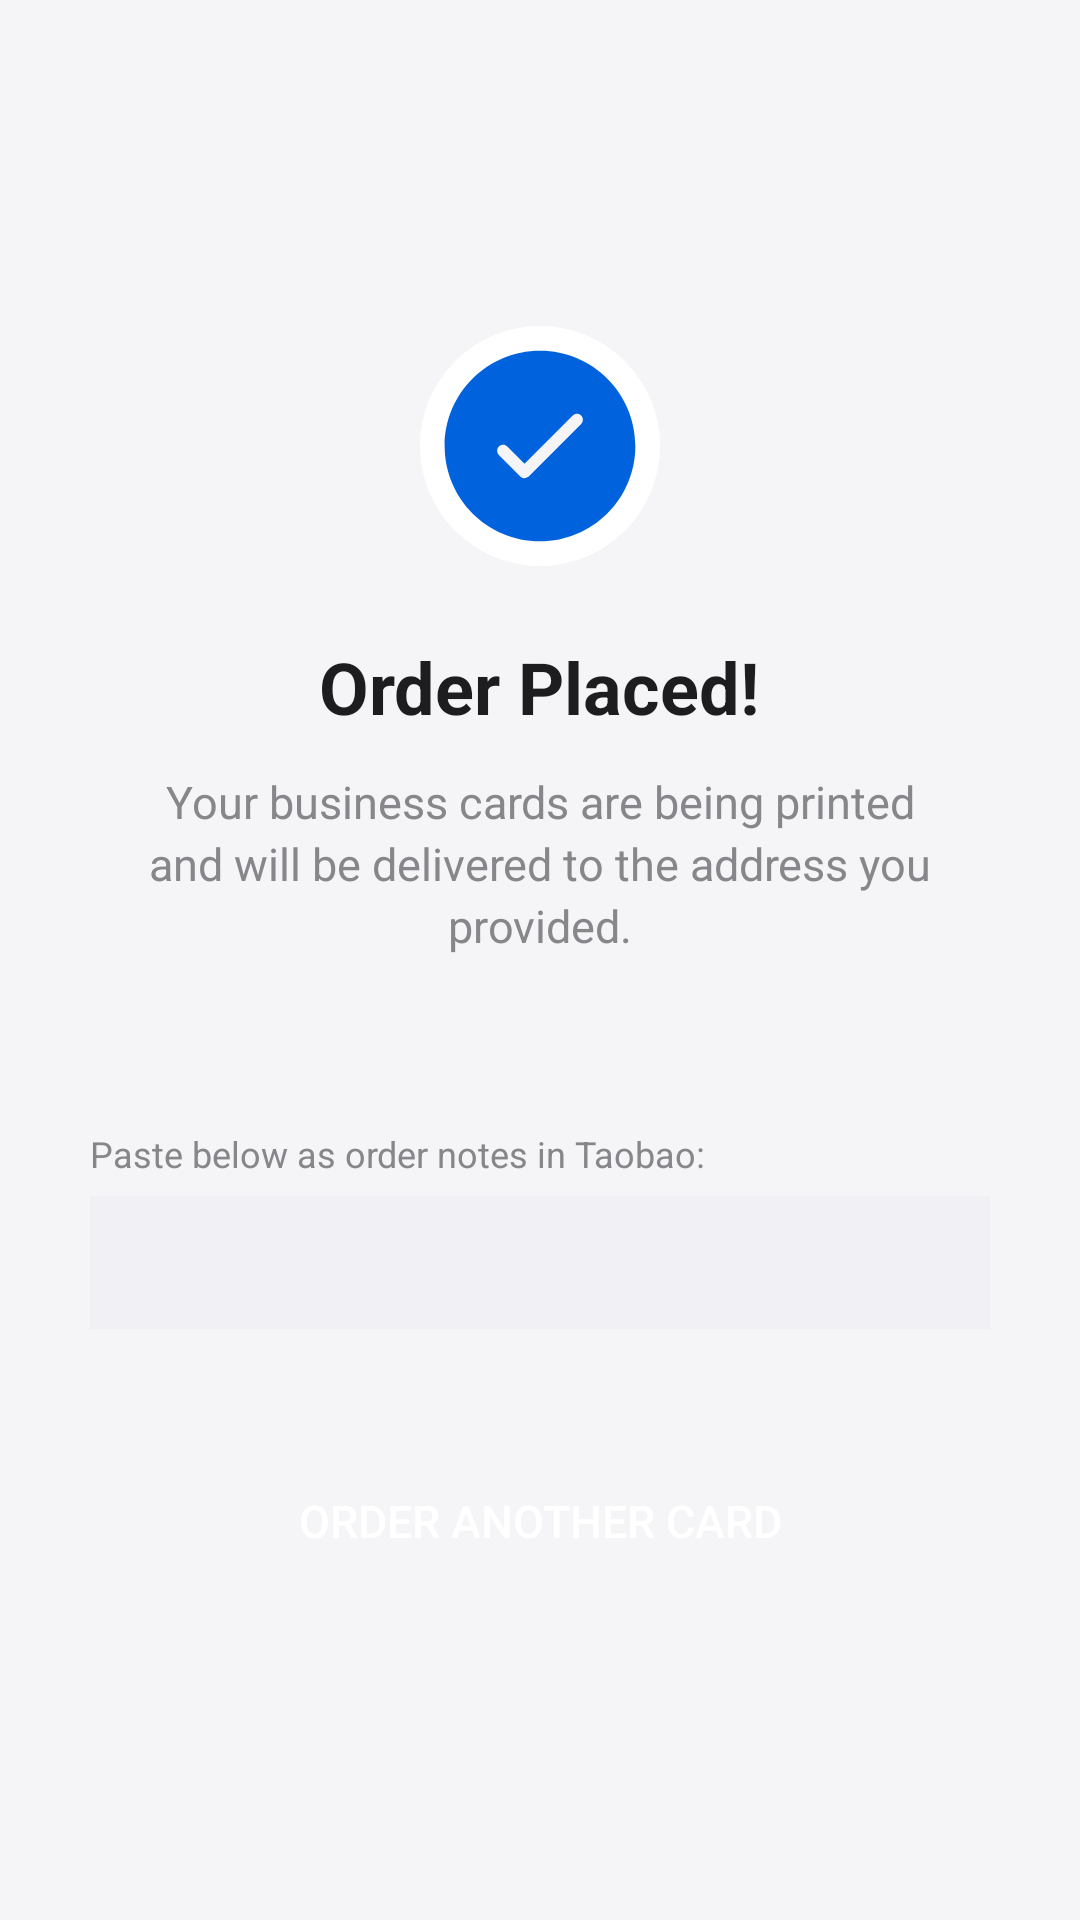

Where icons sit on this 1080×1920 app screen, as (x1, y1, x2, y2):
confirm: (444, 350, 636, 542)
